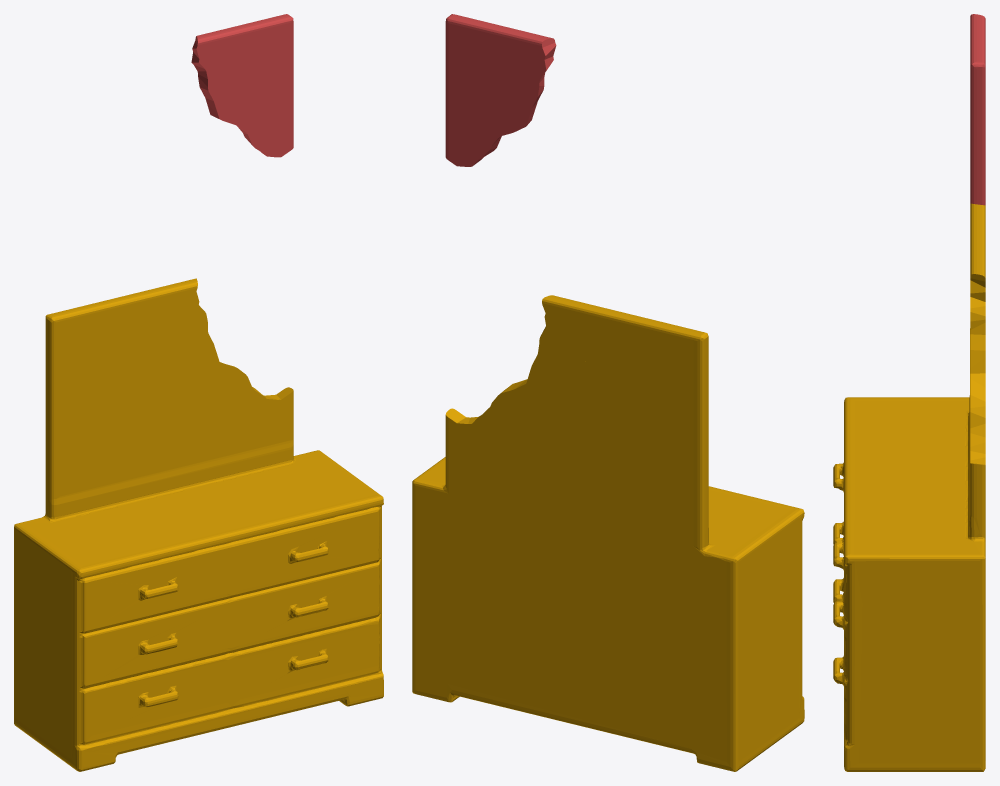
The model's file is fractured_67_2pcs_transformed.glb.
3 renders of one model, left to right at view 1: azimuth 30°, elevation 25°; view 2: azimuth 150°, elevation 25°; view 3: azimuth 270°, elevation 25°, orthographic. The views are drawn at different scales.
Parts seen in each view (by area): view 1: piece_0.obj, piece_1.obj; view 2: piece_0.obj, piece_1.obj; view 3: piece_0.obj, piece_1.obj.
Boxes of the visible parts, bbox=[...] form: piece_0.obj: bbox=[14, 278, 383, 771]; piece_1.obj: bbox=[191, 14, 293, 157]; piece_0.obj: bbox=[412, 295, 804, 771]; piece_1.obj: bbox=[445, 14, 556, 166]; piece_0.obj: bbox=[833, 203, 985, 771]; piece_1.obj: bbox=[970, 14, 985, 205].
Size of the model in its own units: 0.7955 by 1.6 by 0.3192.
